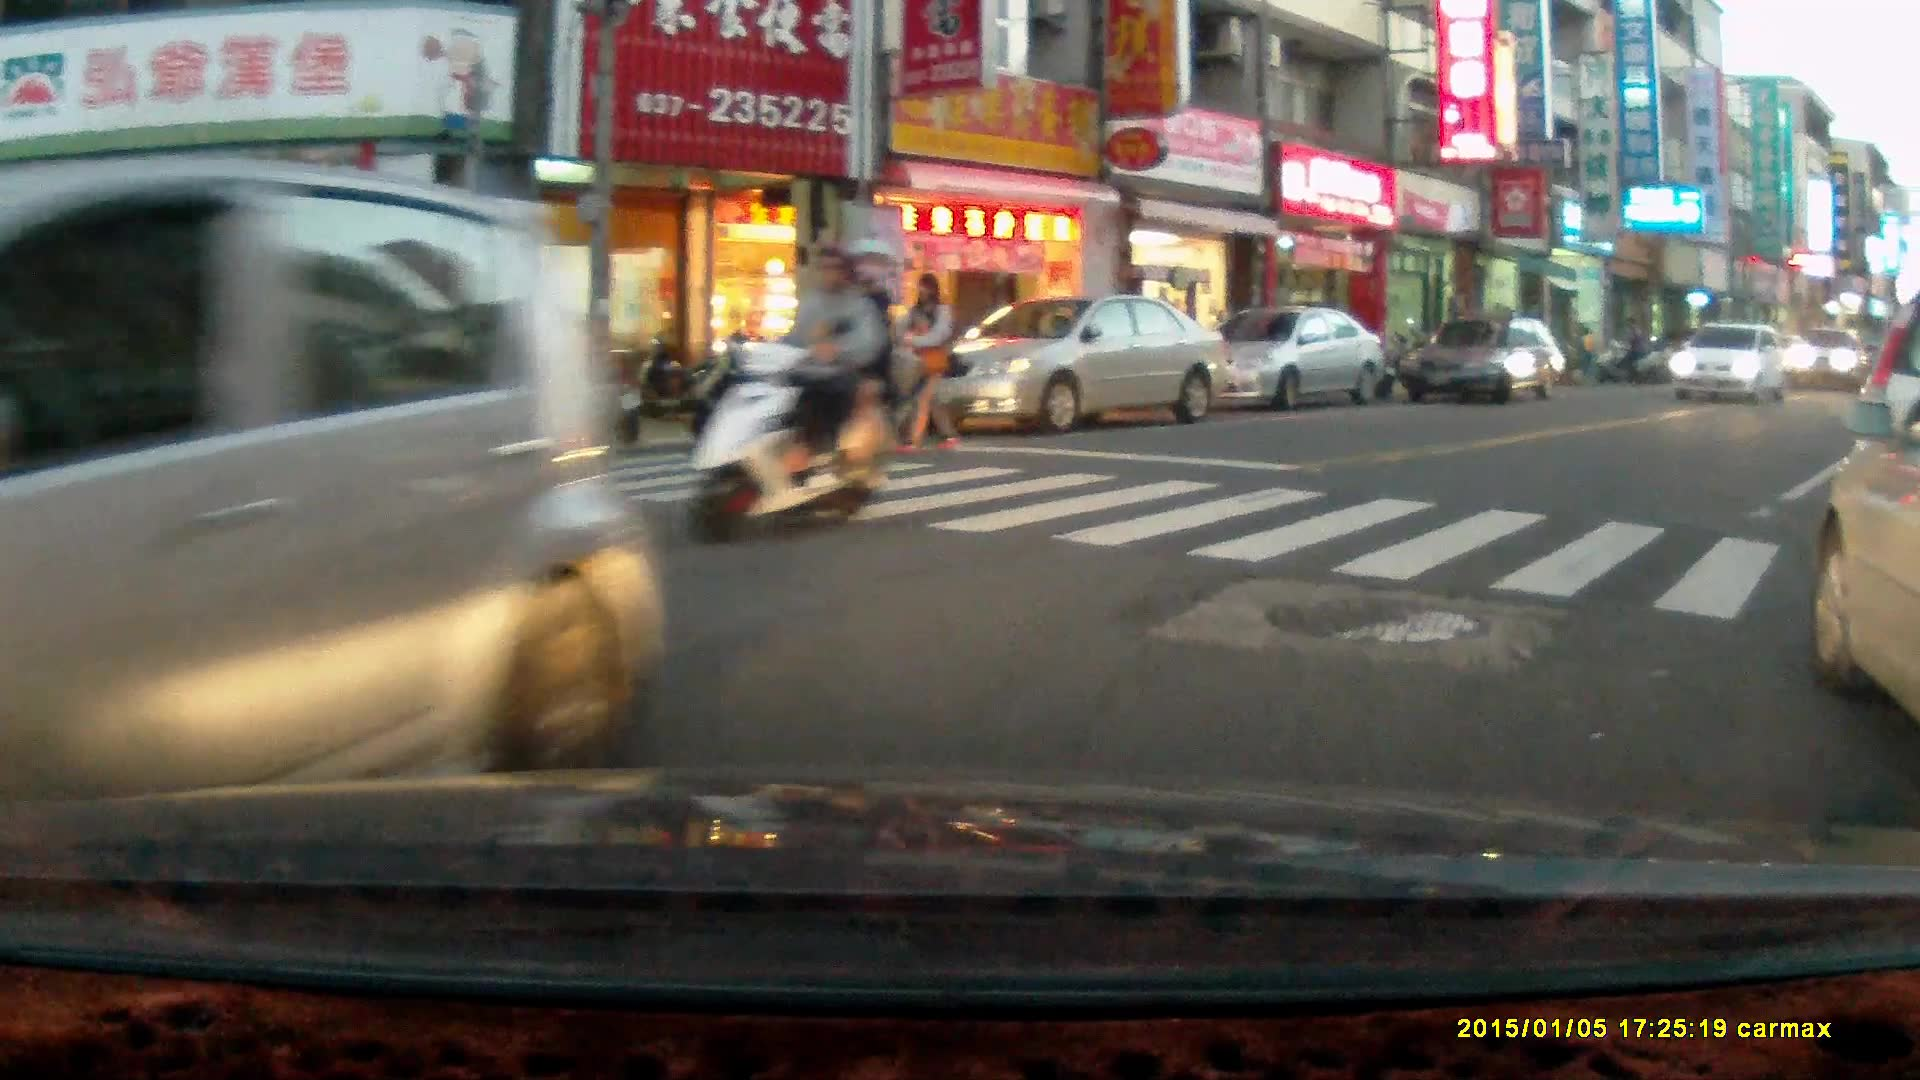pedestrian: (904, 268, 958, 454)
rider: (682, 235, 901, 547)
vehicle: (1, 154, 676, 794), (910, 290, 1234, 431), (1804, 389, 1920, 727), (1844, 301, 1920, 570), (1188, 306, 1388, 408), (1403, 312, 1567, 409), (1670, 321, 1791, 399), (1784, 322, 1874, 395)
